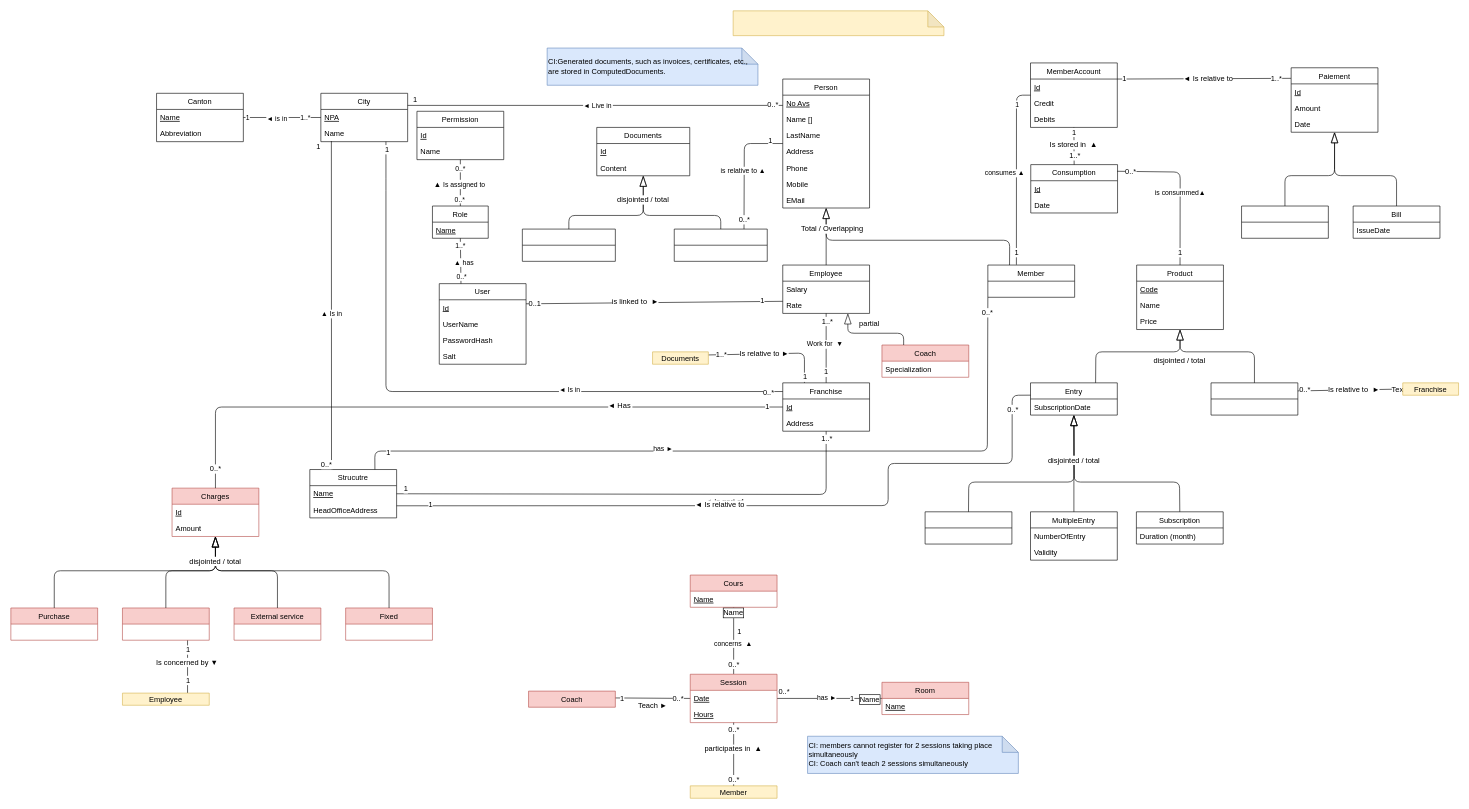
The diagram is 1469 pixels wide and 809 high, and some of its shapes have lost their labels. The centre of each missing label's shape, as x and y in pixels:
Cashier: point (1284, 221)
ComputedDocument: point (720, 244)
consumables: point (1254, 398)
Staff: point (165, 623)
Templates: point (568, 244)
UniqueEntry: point (968, 527)
Yellow entities are tunnels to implemented entities: point (838, 23)
